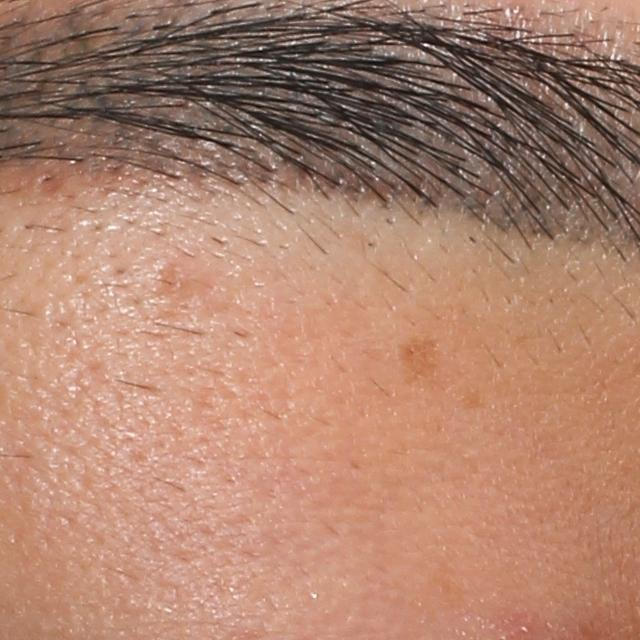melasma: (393, 330, 445, 391)
